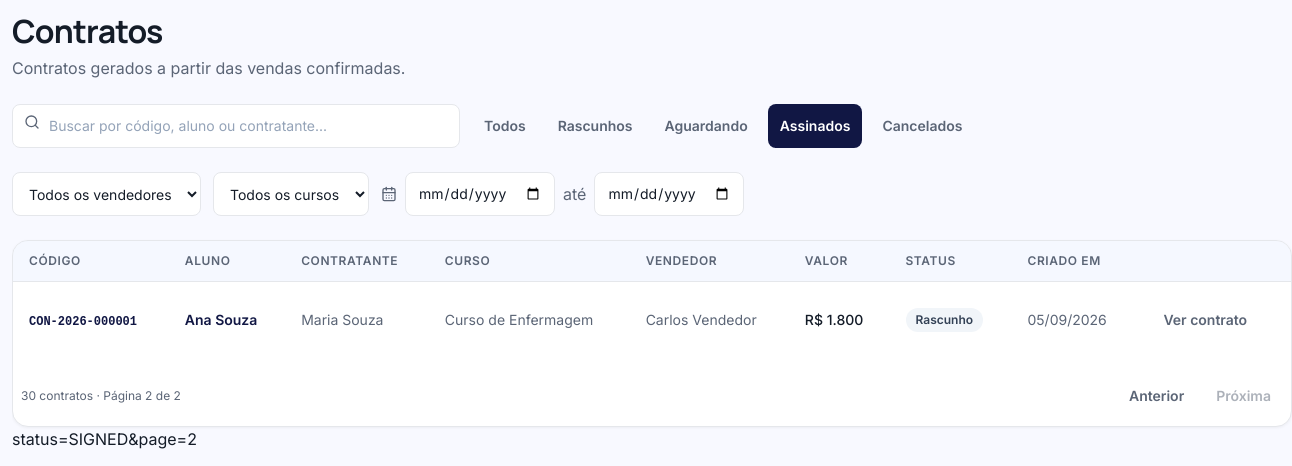
it: ContractsPage — persistência de filtros na URL (Fase 7) › alterar filtro reseta page para 1
Click the button "Todos".
click(505, 126)  # box [472, 104, 538, 148]
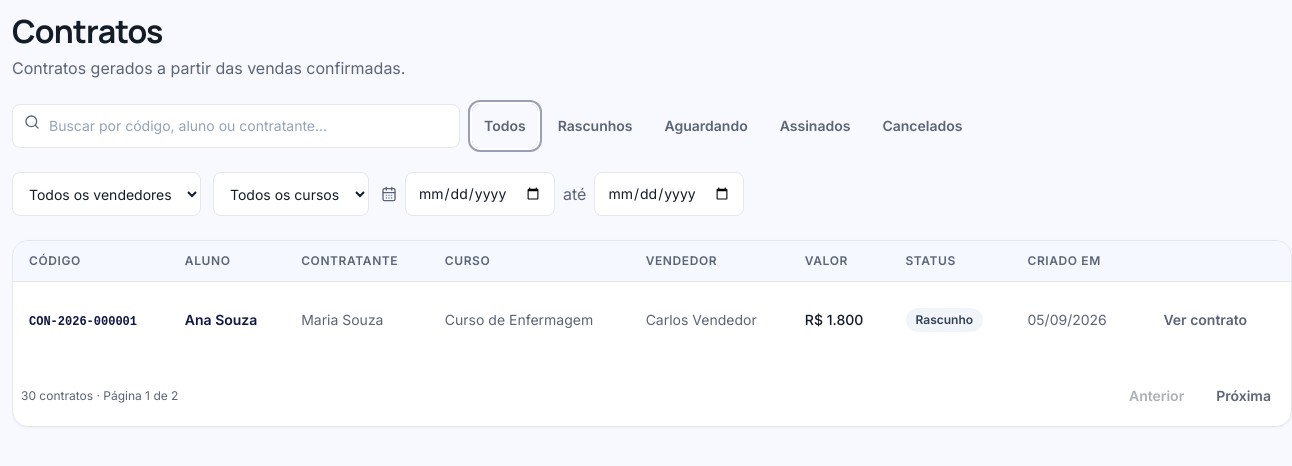
expect the text with test id "location-search" no longer shows "page=": met
